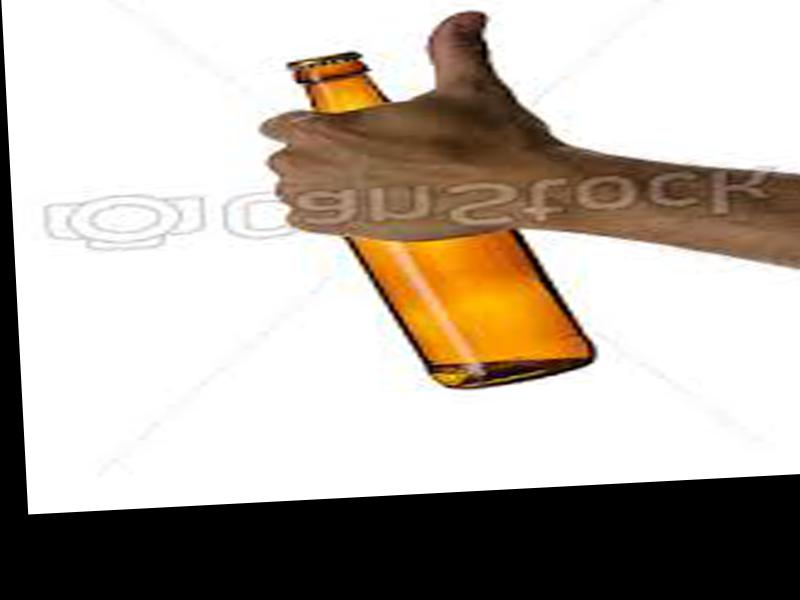Beer: (291, 42, 599, 396)
